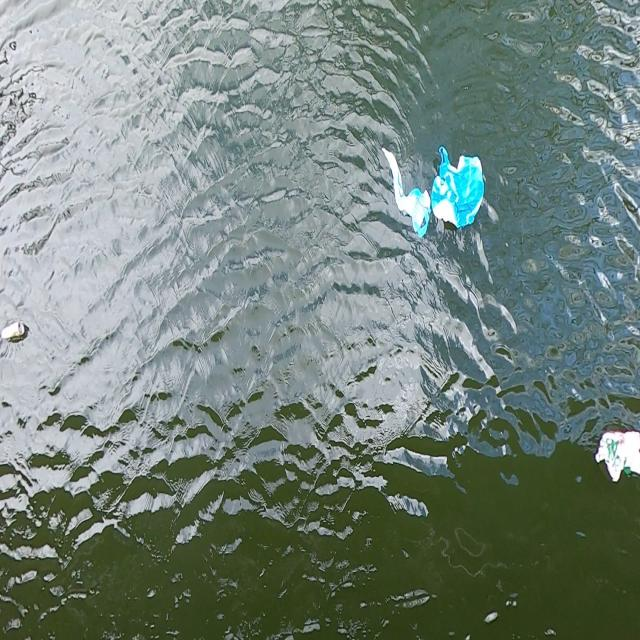Sac plastique: (378, 143, 433, 244), (432, 143, 487, 231), (591, 423, 640, 487)
